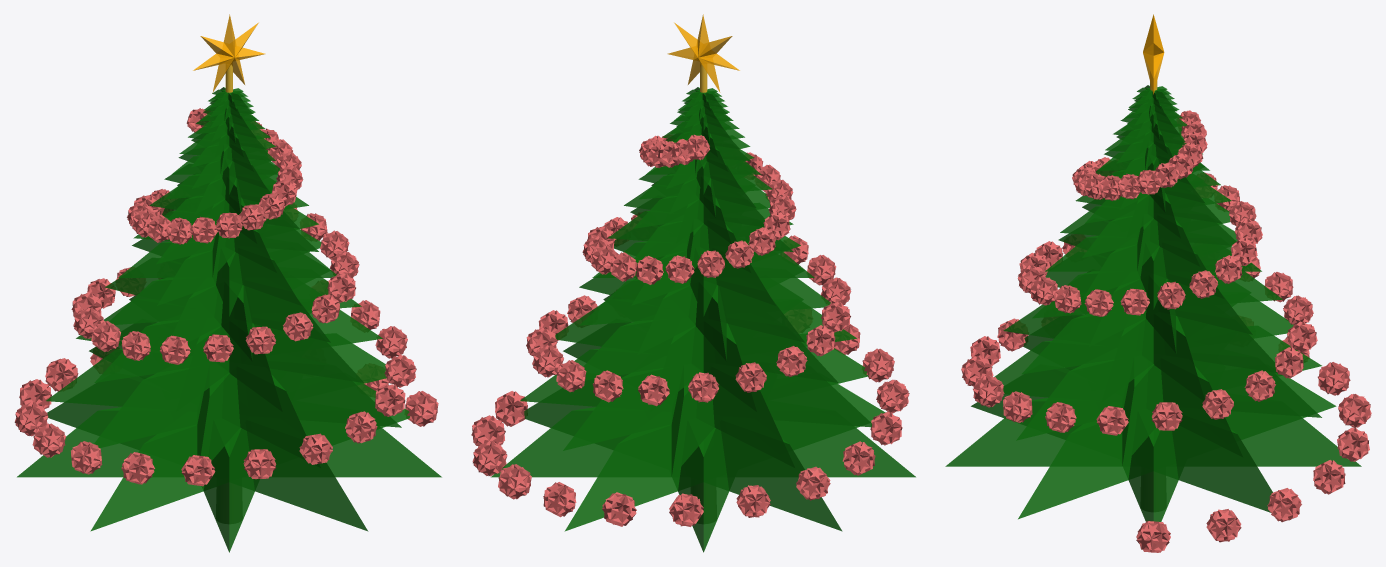
File: fractaltreef.glb
3 views of the same model, side by side, from view 1: azimuth 30°, elevation 25°; view 2: azimuth 150°, elevation 25°; view 3: azimuth 270°, elevation 25° (orthographic). The views are drawn at different scales.
Size of the model in its own units: 9.98 by 12.34 by 9.68.
